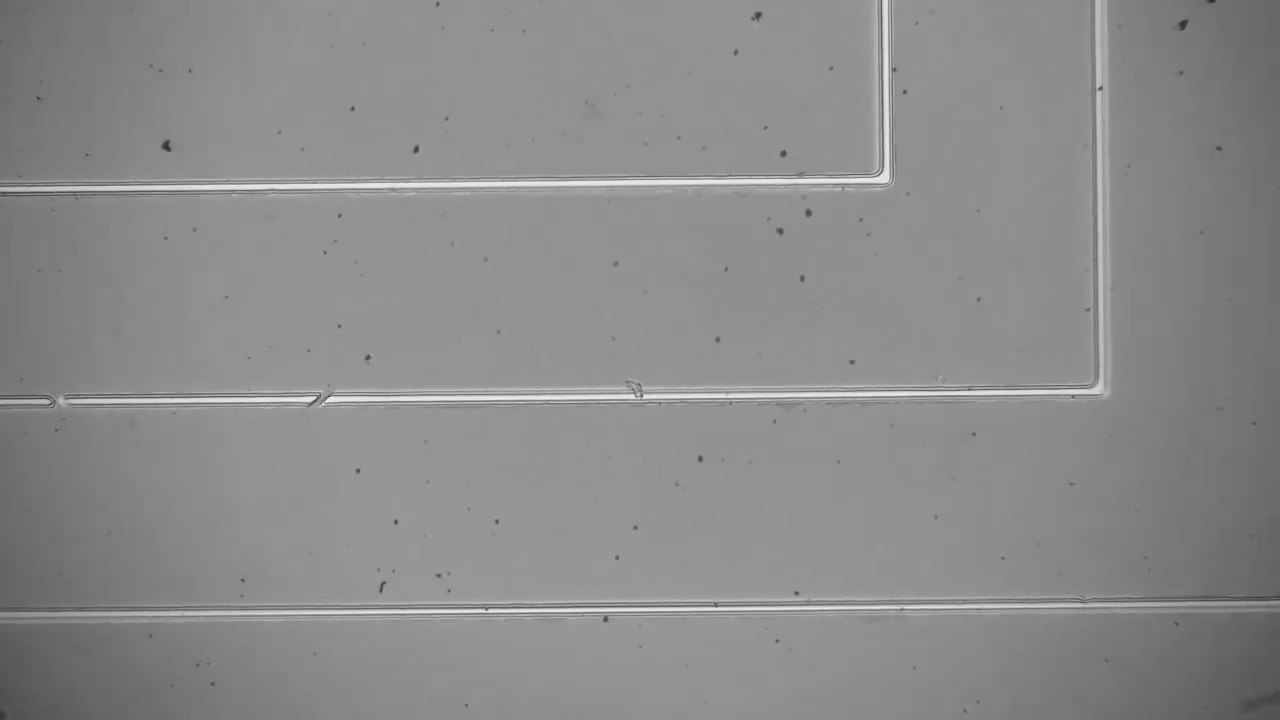open: (299, 381, 342, 414), (35, 385, 77, 418)
stains_enbedded: (616, 370, 654, 418)
